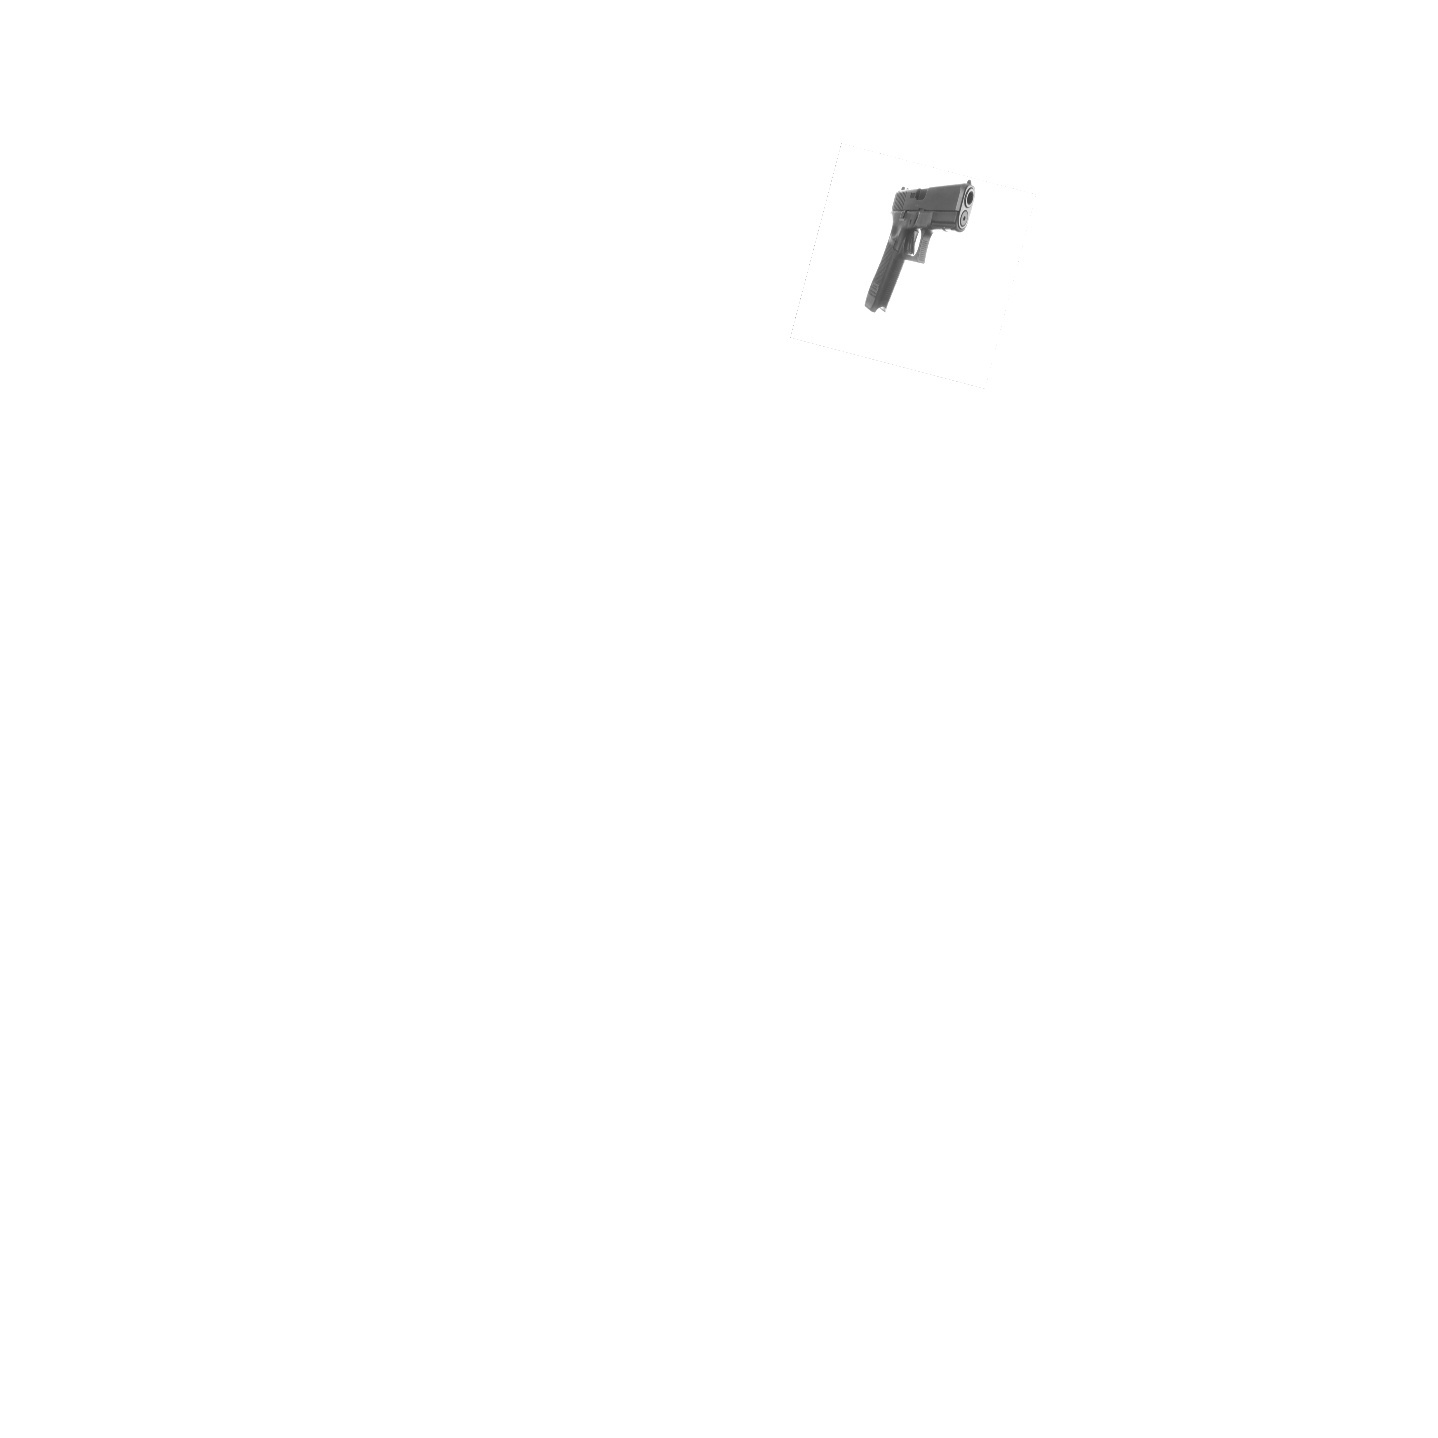gun: (865, 179, 974, 312)
